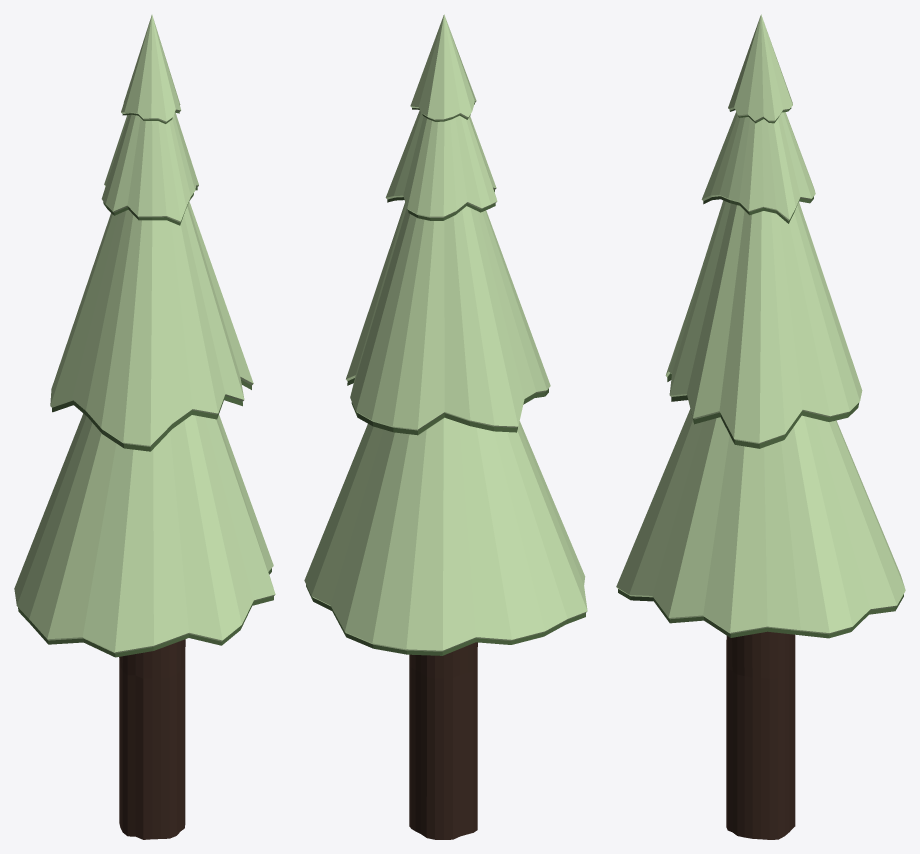
The model's file is tree_snow0.glb.
The picture shows the model from 3 angles, left to right: view 1: azimuth 30°, elevation 25°; view 2: azimuth 150°, elevation 25°; view 3: azimuth 270°, elevation 25°; orthographic projection.
Parts seen in each view (by area): view 1: Cylinder; view 2: Cylinder; view 3: Cylinder.
Part boxes in pixels (left/top/right/bottom): Cylinder: left=14, top=14, right=275, bottom=839; Cylinder: left=304, top=14, right=587, bottom=839; Cylinder: left=616, top=14, right=905, bottom=839.
Size of the model in its own units: 1.5 by 5.05 by 1.63.
